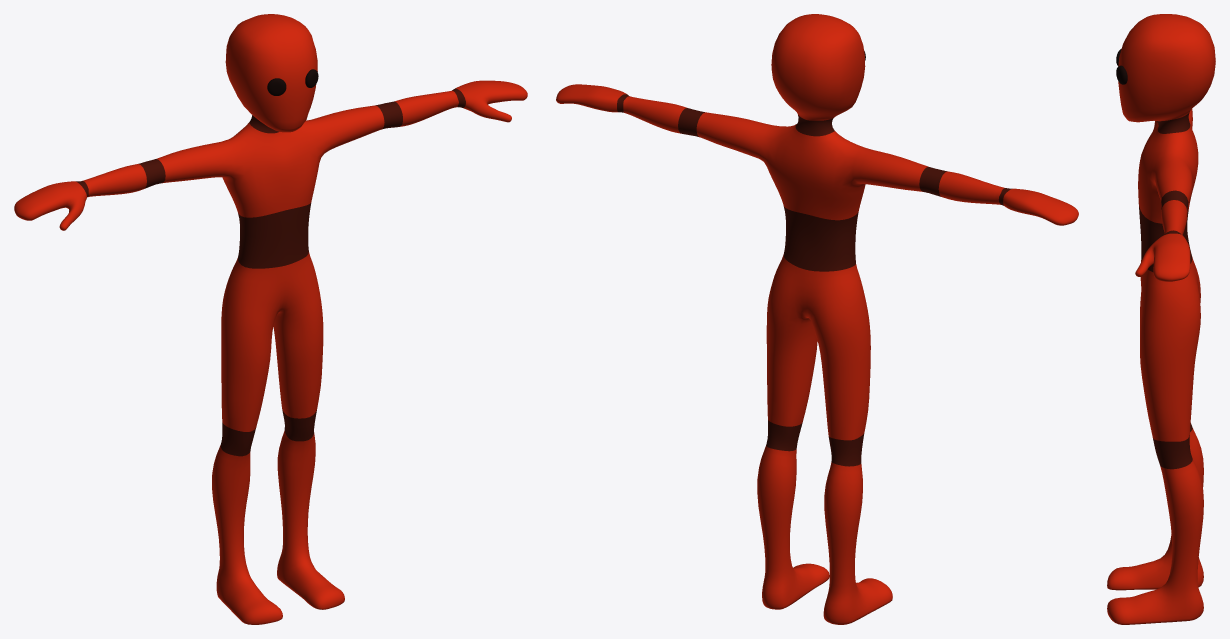
The model's file is sky_merged_mesh.obj.
3 renders of one model, left to right at view 1: azimuth 30°, elevation 25°; view 2: azimuth 150°, elevation 25°; view 3: azimuth 270°, elevation 25°, orthographic.
Parts seen in each view (by area): view 1: GEO-Body; view 2: GEO-Body; view 3: GEO-Body, GEO-Eyes.L.
Boxes of the visible parts, left/top/right/bottom form: GEO-Body: left=14, top=14, right=527, bottom=624; GEO-Body: left=556, top=14, right=1078, bottom=624; GEO-Body: left=1107, top=14, right=1215, bottom=624; GEO-Eyes.L: left=1116, top=65, right=1127, bottom=84.
Bounding box in the file's own units: 1.15 × 1.25 × 0.2116.
